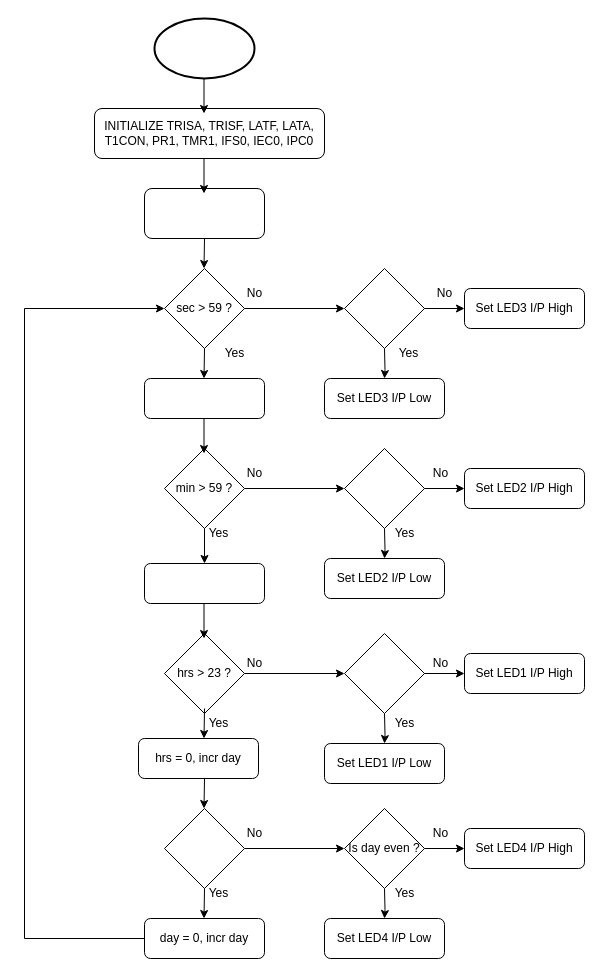
This 602x976 diagram has some shape labels left out. The shapes that lost their labels are listed below. From the top down, each one's centre as x and y in pixels, then its label:
(x=204, y=48): START
(x=204, y=213): SET LED1-4 I/P HIGH
(x=384, y=308): Is sec even ?
(x=204, y=398): sec = 0, incr min
(x=384, y=488): Is min even ?
(x=204, y=583): min = 0, incr hrs
(x=384, y=673): Is hrs even ?
(x=204, y=848): day > 30 ?
